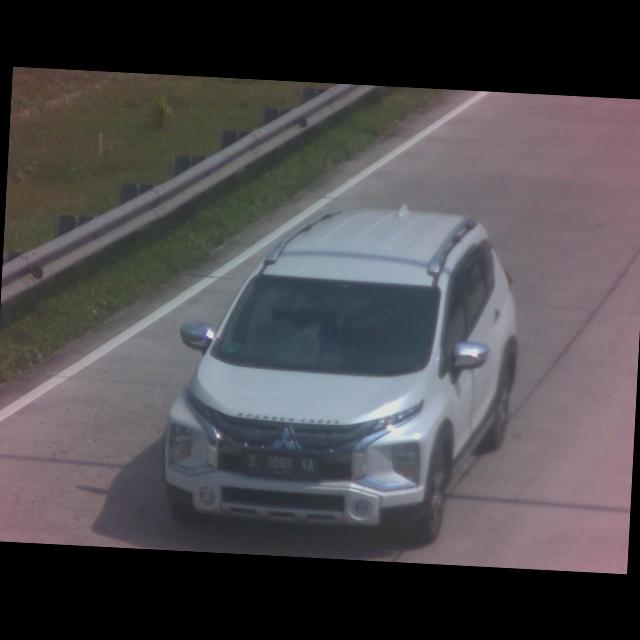plate: (244, 448, 322, 482)
